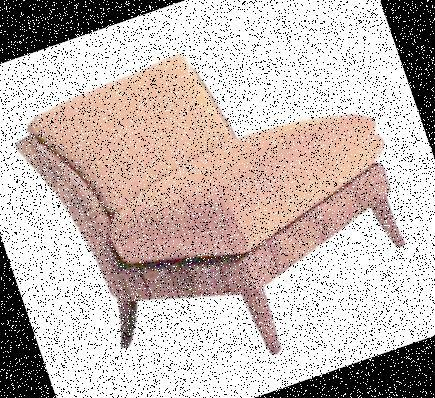Silla: (14, 5, 433, 397)
